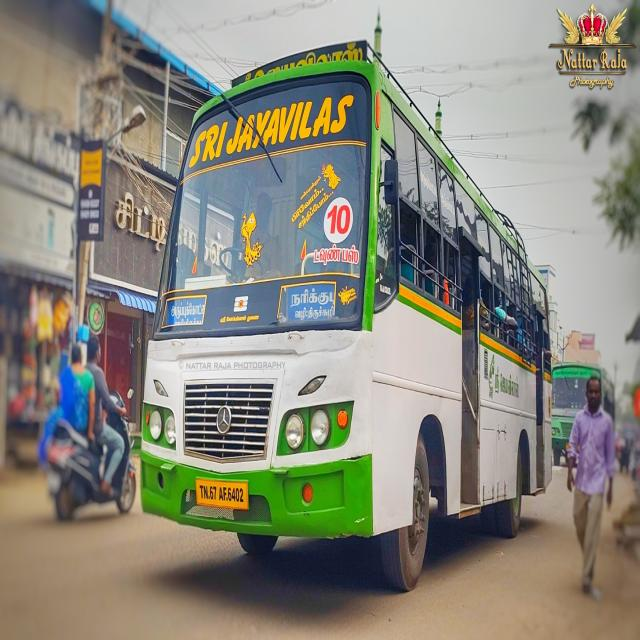Plate: (196, 477, 248, 510)
bus: (141, 65, 557, 592)
